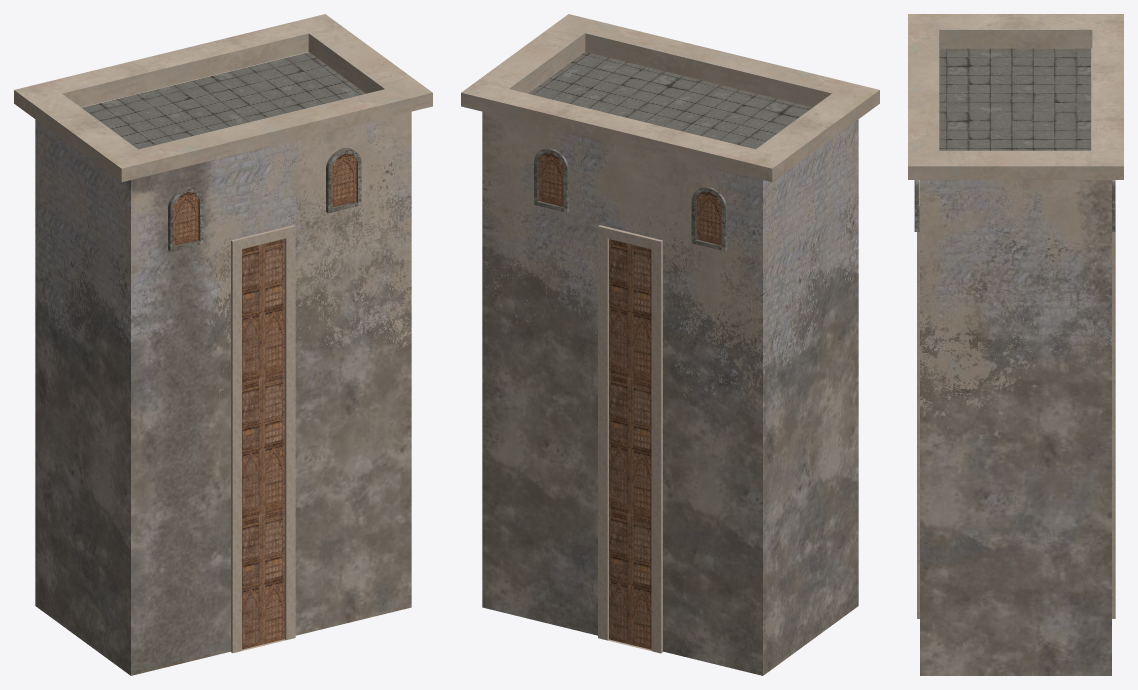
The model's file is medina_cityscape_daar_2.gltf.
3 renders of one model, left to right at view 1: azimuth 30°, elevation 25°; view 2: azimuth 150°, elevation 25°; view 3: azimuth 270°, elevation 25°, orthographic.
Parts seen in each view (by area): view 1: medina_cityscape_daar_2; view 2: medina_cityscape_daar_2; view 3: medina_cityscape_daar_2.
Part boxes in pixels (x1,y1,x2,y2): medina_cityscape_daar_2: (14, 14, 432, 675); medina_cityscape_daar_2: (461, 14, 879, 675); medina_cityscape_daar_2: (908, 14, 1123, 675).
Size of the model in its own units: 5.29 by 8.39 by 3.17.
Materials: 3 (3 with a texture image).
